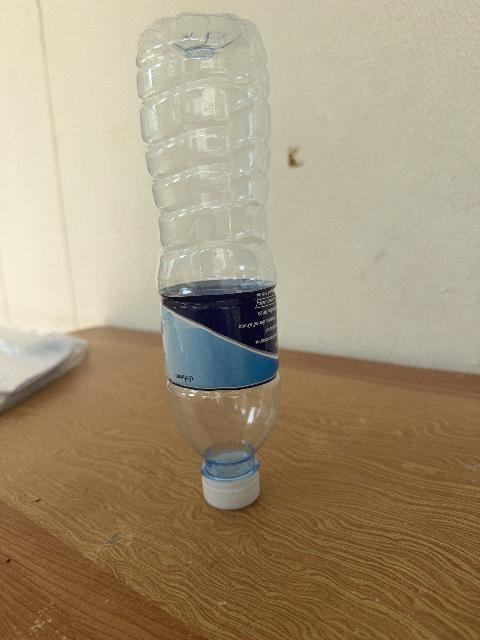bottle: (137, 14, 280, 509)
